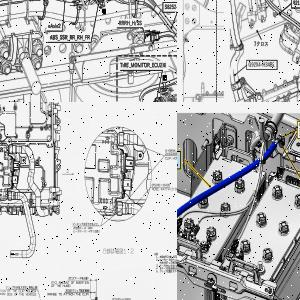PartNumber: (248, 61, 275, 68), (151, 182, 171, 187), (164, 3, 177, 10), (112, 296, 132, 300), (292, 0, 300, 6), (168, 151, 177, 155)
